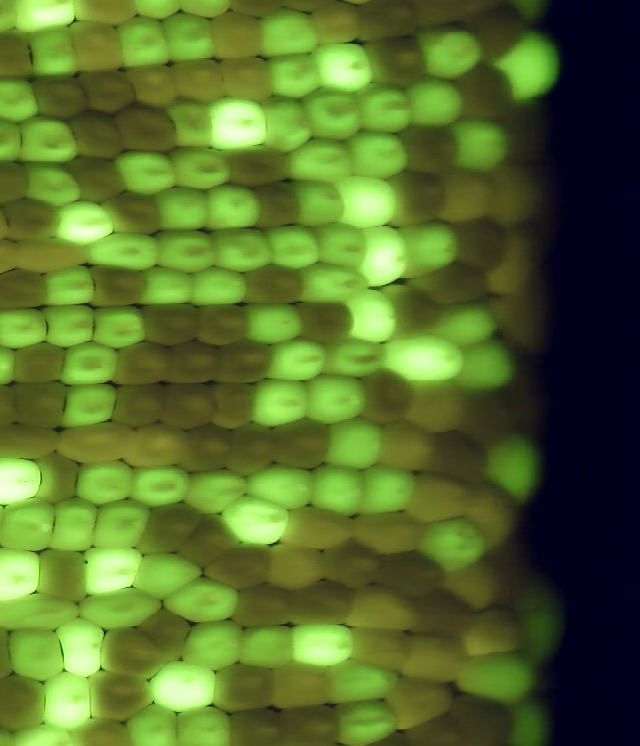fluorescent: (487, 25, 566, 106), (451, 645, 542, 710), (483, 427, 547, 510), (408, 20, 489, 85), (413, 514, 490, 580), (507, 584, 568, 667), (377, 330, 468, 385), (398, 215, 468, 283), (327, 171, 403, 233), (128, 548, 207, 607), (142, 655, 221, 714), (237, 459, 323, 513), (160, 573, 246, 627), (218, 492, 298, 549), (202, 93, 274, 156), (297, 370, 372, 429), (4, 622, 71, 688), (399, 72, 471, 133), (319, 656, 405, 707), (453, 334, 521, 398), (352, 222, 415, 291), (349, 78, 420, 139), (82, 226, 165, 277), (299, 84, 368, 145), (179, 465, 255, 520), (293, 260, 375, 310), (352, 460, 420, 520), (308, 39, 378, 97), (279, 135, 358, 186), (20, 19, 87, 79), (77, 588, 168, 632), (145, 226, 225, 276), (48, 193, 118, 250), (254, 91, 316, 155), (53, 337, 128, 389), (319, 415, 384, 475), (447, 116, 513, 175), (305, 461, 372, 519), (14, 113, 83, 169), (37, 667, 98, 730), (253, 6, 322, 61), (0, 591, 88, 634), (259, 334, 333, 385), (426, 300, 500, 351), (248, 376, 313, 434), (87, 495, 153, 552), (108, 146, 183, 196), (346, 127, 414, 182), (282, 176, 350, 231), (198, 181, 267, 235), (69, 457, 140, 509), (123, 462, 198, 511), (166, 142, 236, 194), (329, 697, 403, 746), (55, 380, 122, 434), (147, 182, 215, 235), (161, 97, 223, 155), (115, 11, 172, 74), (80, 544, 146, 598), (0, 495, 59, 555), (20, 158, 88, 210), (340, 289, 402, 346), (208, 225, 280, 274), (53, 614, 109, 677), (286, 620, 358, 668), (178, 619, 243, 672), (240, 297, 307, 348), (233, 621, 301, 671), (317, 335, 392, 380), (48, 494, 103, 555), (262, 50, 327, 101), (309, 219, 374, 270), (33, 301, 102, 349), (160, 6, 216, 64), (185, 264, 253, 310), (88, 300, 148, 352), (133, 263, 200, 309), (264, 222, 324, 273), (118, 700, 184, 746), (41, 263, 102, 310), (0, 453, 49, 510), (0, 544, 44, 606), (0, 305, 57, 351), (9, 1, 81, 37), (173, 705, 236, 746), (0, 74, 43, 126), (0, 111, 32, 165), (131, 1, 187, 25)
nonfluorescent: (483, 289, 561, 355), (382, 674, 461, 733), (90, 624, 169, 683), (398, 375, 473, 437), (448, 60, 518, 126), (496, 357, 551, 439), (483, 222, 543, 296), (385, 165, 452, 231), (370, 547, 452, 600), (268, 660, 347, 715), (358, 32, 431, 91), (374, 282, 448, 340), (482, 160, 548, 225), (85, 670, 163, 725), (132, 605, 199, 669), (344, 509, 433, 557), (463, 480, 522, 552), (209, 659, 281, 718), (407, 261, 495, 309), (197, 540, 278, 592), (343, 580, 419, 635), (455, 385, 519, 450), (459, 601, 528, 661), (401, 470, 471, 529), (108, 100, 183, 155), (391, 122, 463, 179), (423, 428, 495, 485), (396, 633, 472, 687), (174, 510, 242, 570), (134, 500, 204, 558), (274, 504, 362, 550), (446, 689, 517, 746), (225, 579, 298, 634), (56, 421, 141, 468), (267, 416, 338, 472), (357, 366, 419, 430), (151, 378, 221, 433), (433, 166, 497, 226), (71, 64, 142, 118), (283, 577, 358, 628), (372, 417, 439, 474), (8, 378, 75, 433), (220, 143, 298, 190), (213, 50, 279, 105), (407, 589, 478, 639), (33, 545, 91, 606), (63, 152, 131, 204), (176, 421, 238, 478), (0, 670, 54, 735), (342, 622, 415, 670), (138, 298, 205, 350), (119, 420, 193, 467), (441, 560, 504, 615), (235, 262, 307, 310), (104, 378, 169, 431), (263, 539, 329, 591), (68, 16, 125, 76), (318, 539, 385, 590), (29, 70, 93, 123), (481, 543, 534, 607), (97, 189, 166, 238), (8, 235, 92, 275), (64, 110, 131, 160), (450, 220, 512, 274), (222, 422, 281, 478), (0, 195, 66, 245), (208, 336, 275, 385), (120, 60, 184, 111), (206, 9, 266, 63), (500, 99, 549, 165), (293, 300, 358, 348), (87, 263, 153, 310), (191, 300, 253, 350), (111, 340, 173, 390), (272, 703, 344, 746), (203, 377, 258, 433), (352, 1, 420, 46), (159, 339, 221, 387), (7, 340, 70, 387), (223, 703, 291, 746), (165, 58, 228, 104), (247, 182, 305, 231), (33, 450, 84, 504), (0, 424, 68, 463), (308, 1, 361, 49), (67, 713, 141, 746), (403, 713, 471, 746), (0, 25, 38, 84), (0, 157, 36, 208), (69, 1, 139, 27)
